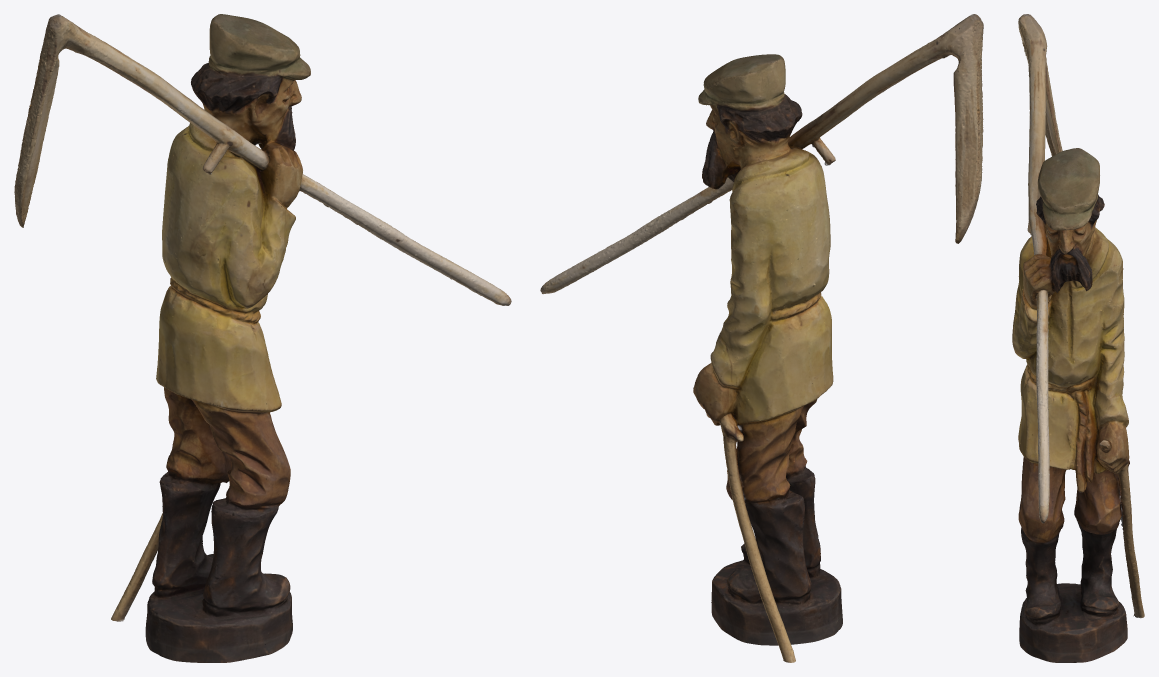
The model's file is MPLW_E_1582_lowpoly.glb.
The picture shows the model from 3 angles, left to right: view 1: azimuth 30°, elevation 25°; view 2: azimuth 150°, elevation 25°; view 3: azimuth 270°, elevation 25°; orthographic projection. The views are drawn at different scales.
Visible parts, largest first — view 1: MPLW_E_1582_lowpoly; view 2: MPLW_E_1582_lowpoly; view 3: MPLW_E_1582_lowpoly.
Boxes of the visible parts, x1,y1,x2,y2 form: MPLW_E_1582_lowpoly: (14,14,511,662); MPLW_E_1582_lowpoly: (540,14,983,662); MPLW_E_1582_lowpoly: (1012,14,1144,662).
Bounding box in the file's own units: 0.3088 × 0.4158 × 0.0908.
1 material, 1 textured.
